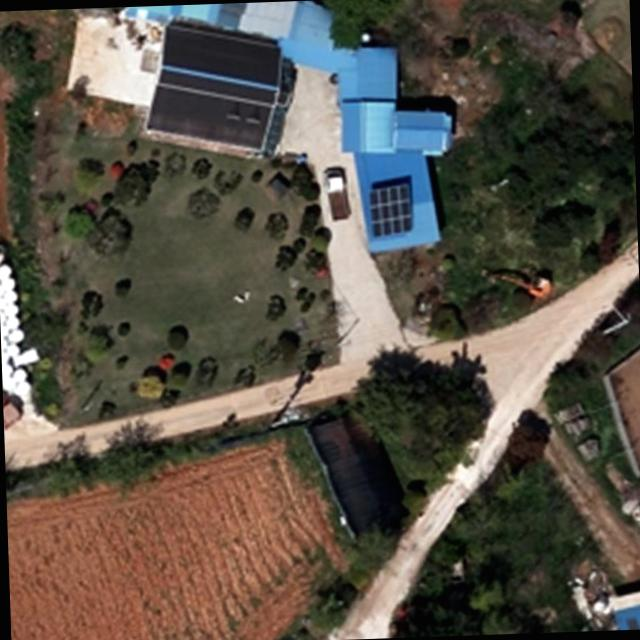solar: (365, 180, 416, 240)
